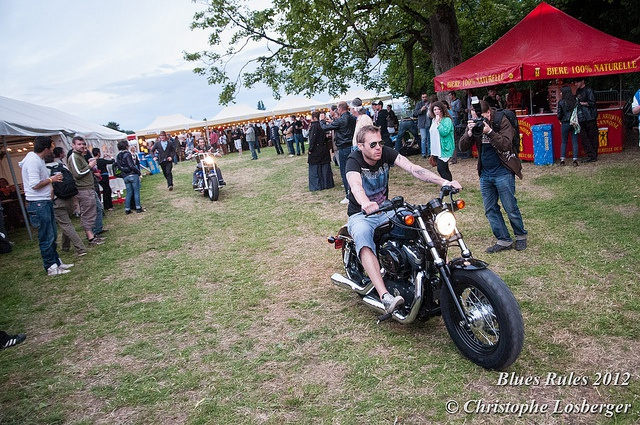non-vehicle: (327, 184, 524, 370), (193, 150, 224, 199)
